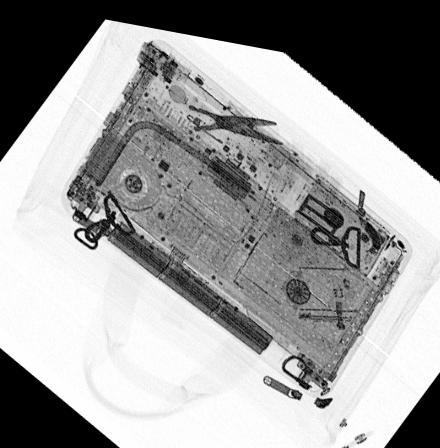Scissors: (182, 91, 285, 136)
